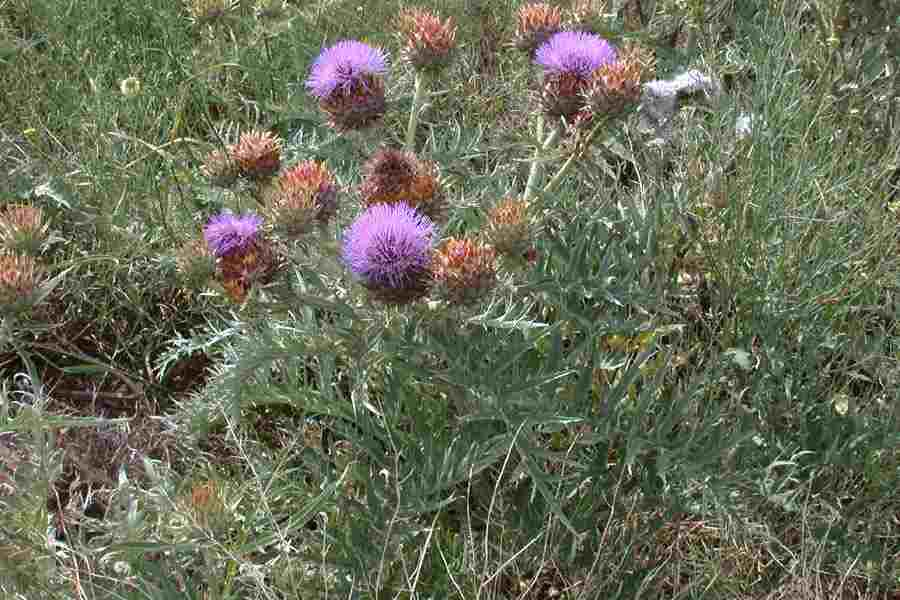thistle: (341, 199, 442, 308), (528, 31, 614, 133), (301, 42, 392, 136), (197, 212, 289, 299)
